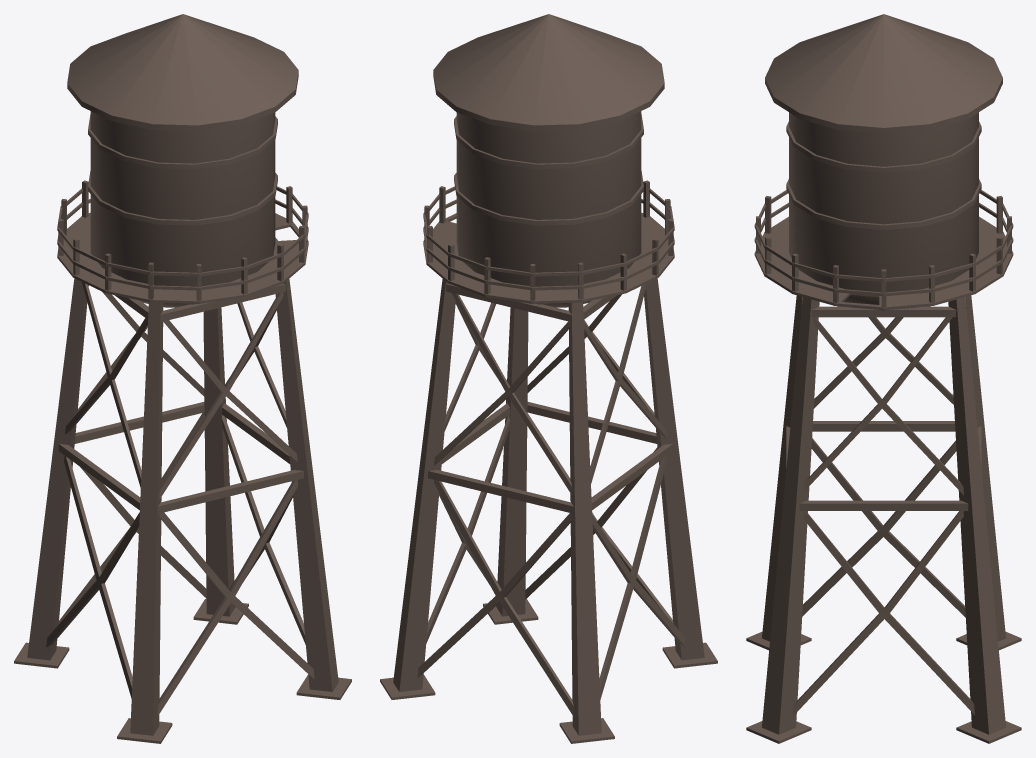
The model's file is WaterTower.fbx.glb.
The picture shows the model from 3 angles, left to right: view 1: azimuth 30°, elevation 25°; view 2: azimuth 150°, elevation 25°; view 3: azimuth 270°, elevation 25°; orthographic projection.
Parts seen in each view (by area): view 1: WaterTower.1; view 2: WaterTower.1; view 3: WaterTower.1.
Part boxes in pixels (<box>): WaterTower.1: <box>14,14,351,743</box>; WaterTower.1: <box>380,14,717,743</box>; WaterTower.1: <box>746,14,1021,743</box>.
Bounding box in the file's own units: 665 × 1782 × 662.
